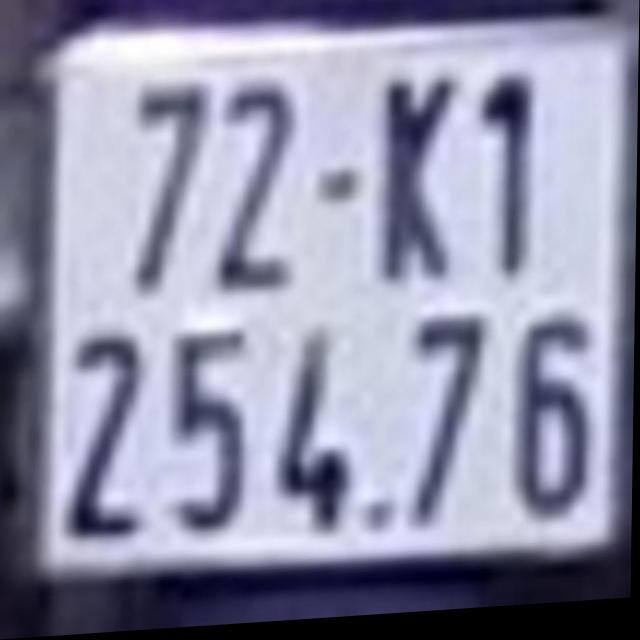1: (479, 78, 533, 287)
2: (216, 85, 295, 298), (66, 335, 145, 542)
4: (280, 322, 355, 535)
5: (170, 322, 248, 535)
6: (514, 314, 591, 527)
7: (130, 85, 208, 292), (413, 314, 485, 535)
K: (383, 73, 456, 293)
